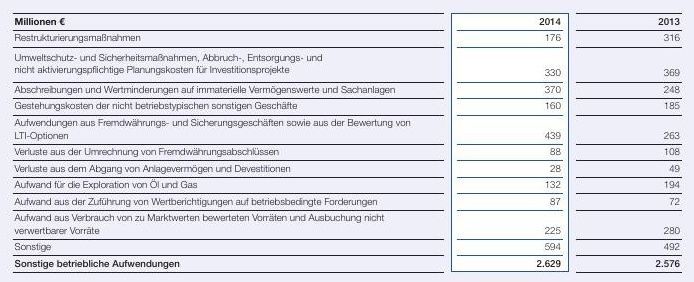table: (0, 0, 694, 282)
